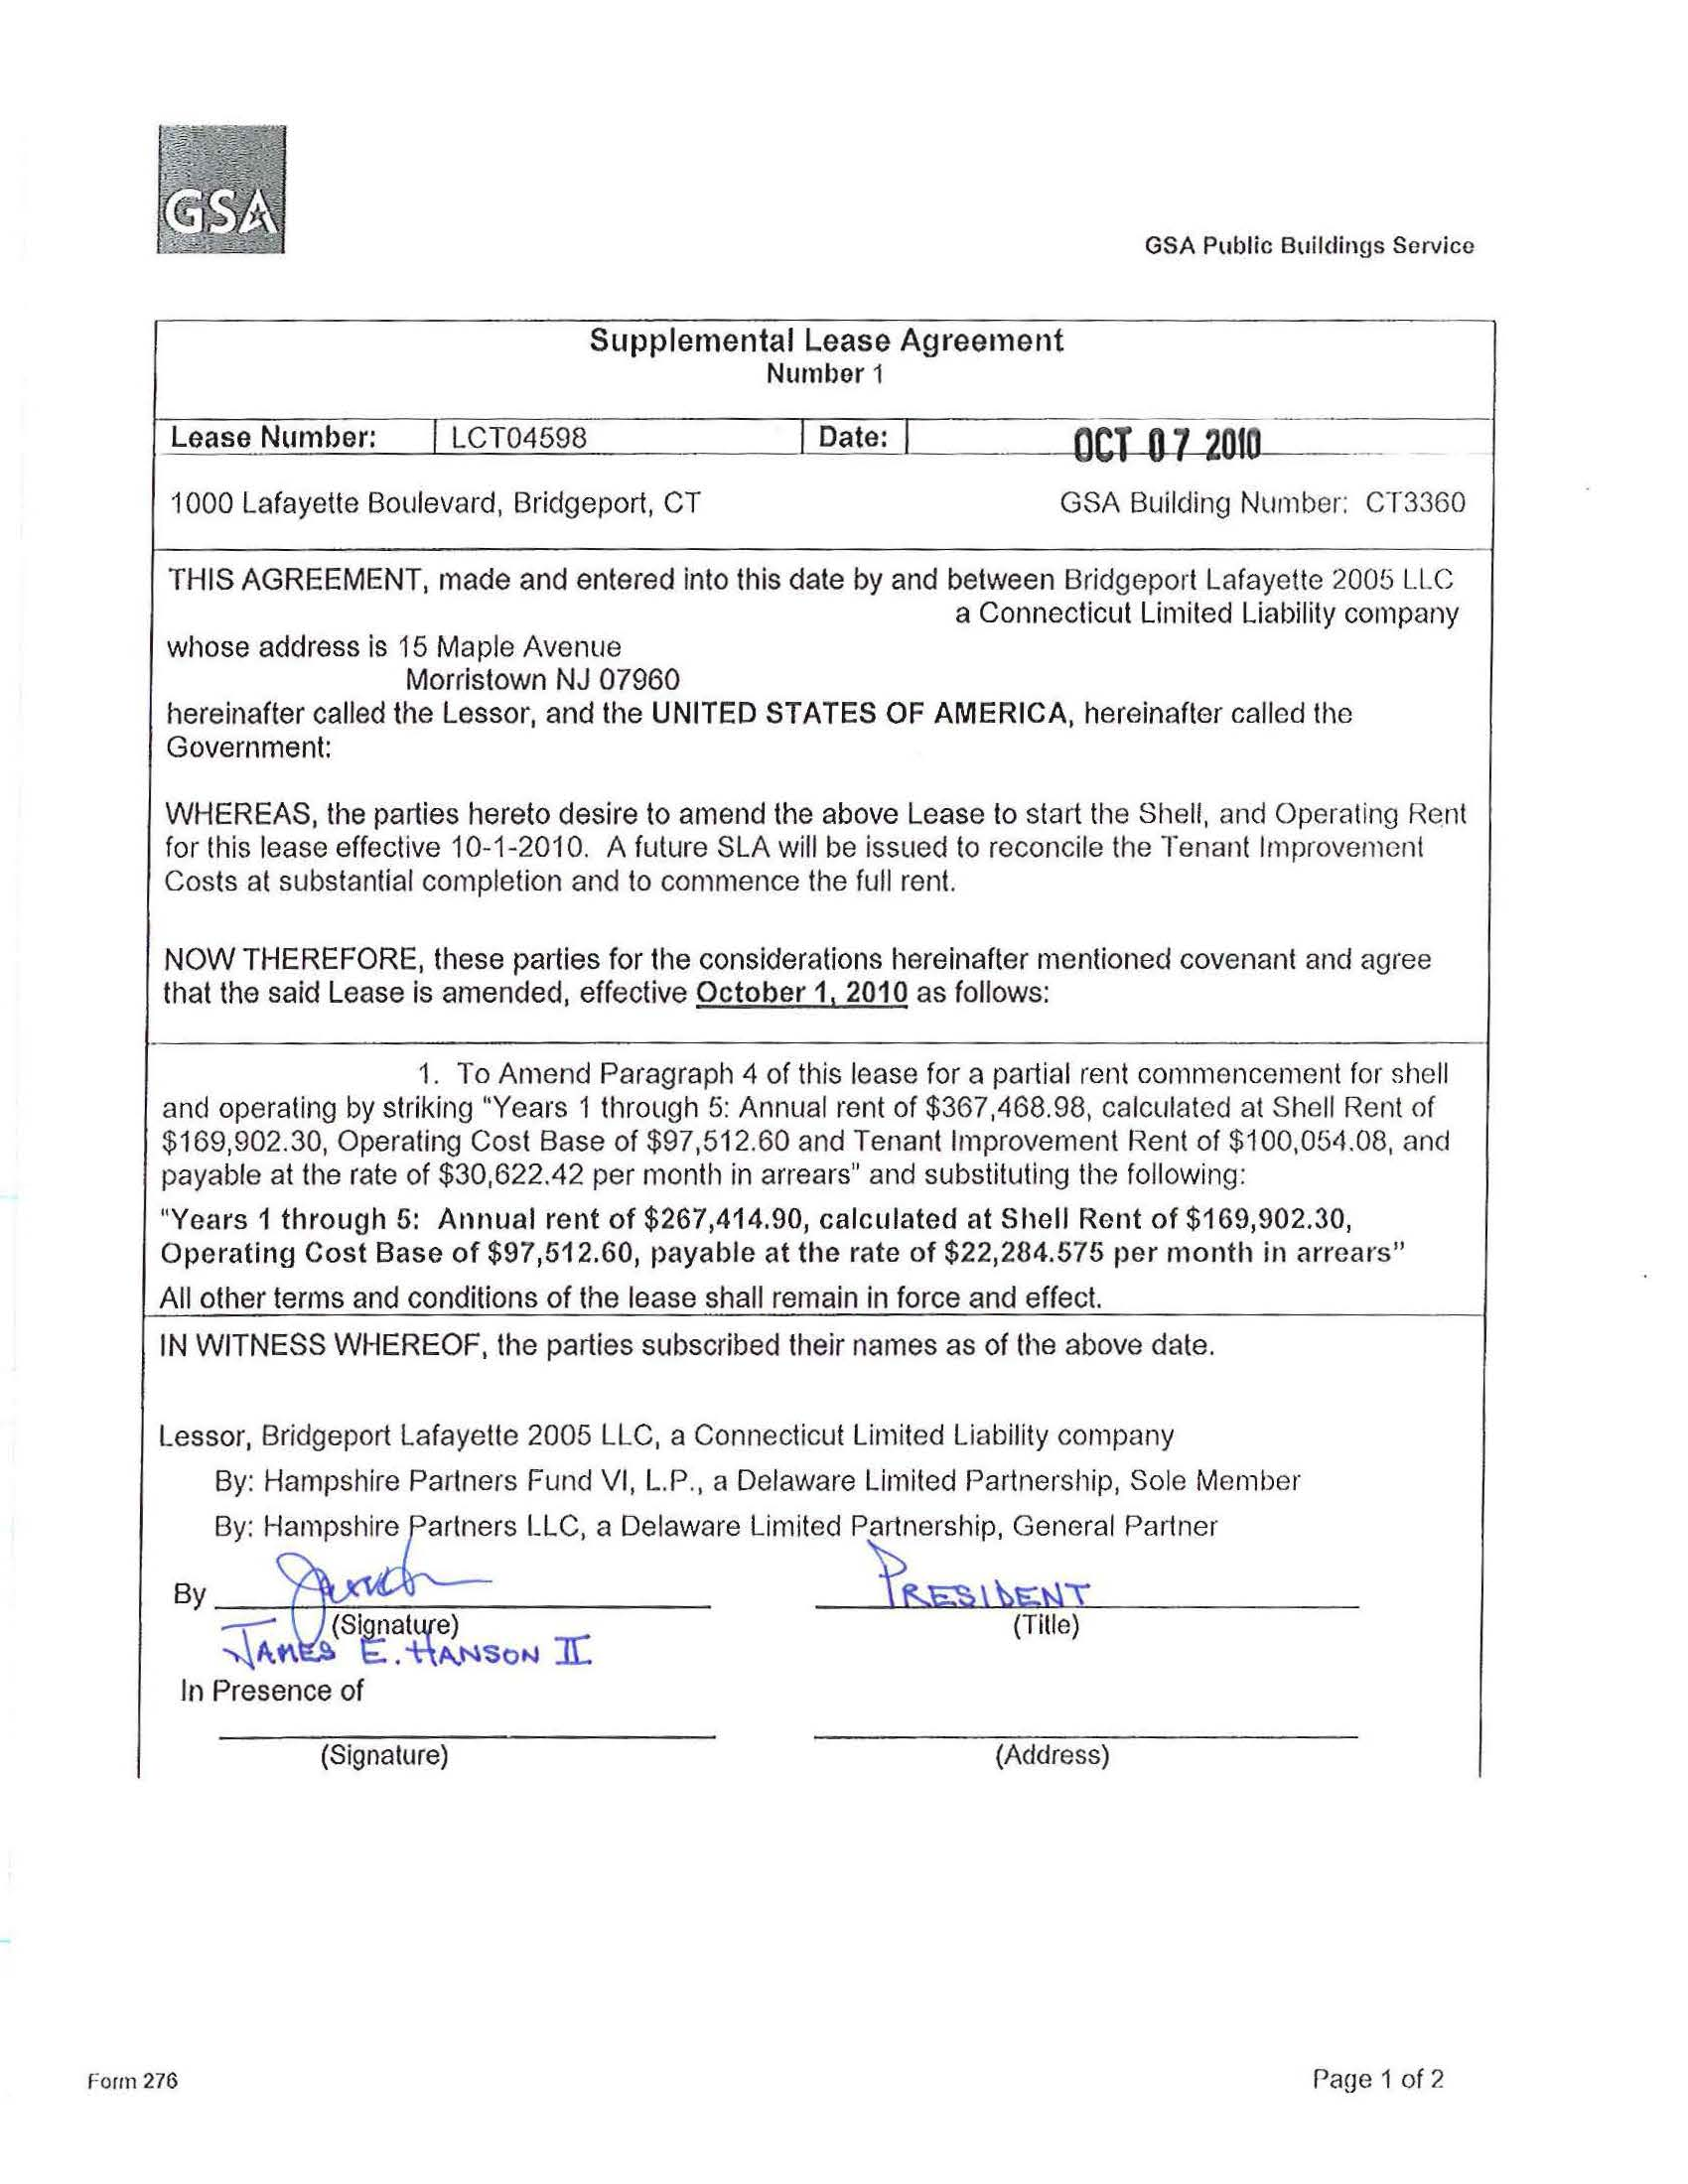handwritten: (223, 1615, 601, 1666), (851, 1540, 1122, 1603), (259, 1544, 502, 1603)
